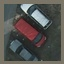car: (13, 16, 46, 45), (19, 4, 54, 29), (8, 40, 39, 59)
